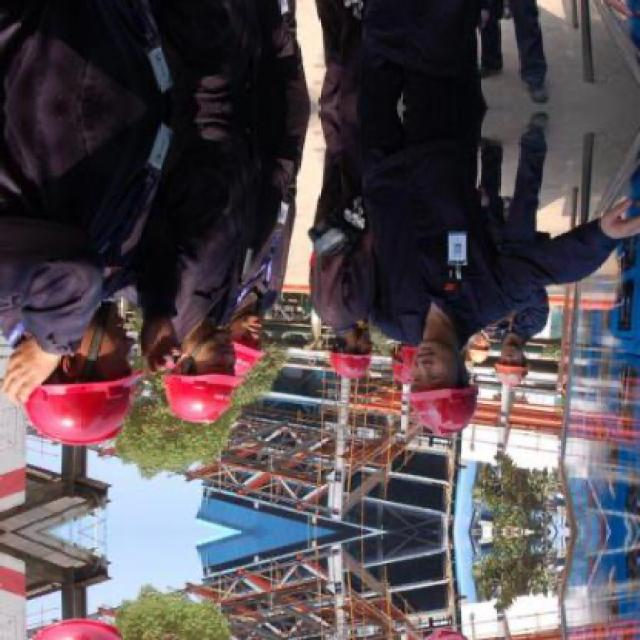con casco: (0, 279, 182, 464), (130, 299, 278, 441), (376, 306, 500, 442), (299, 307, 368, 410), (222, 300, 302, 378), (482, 325, 532, 398)
